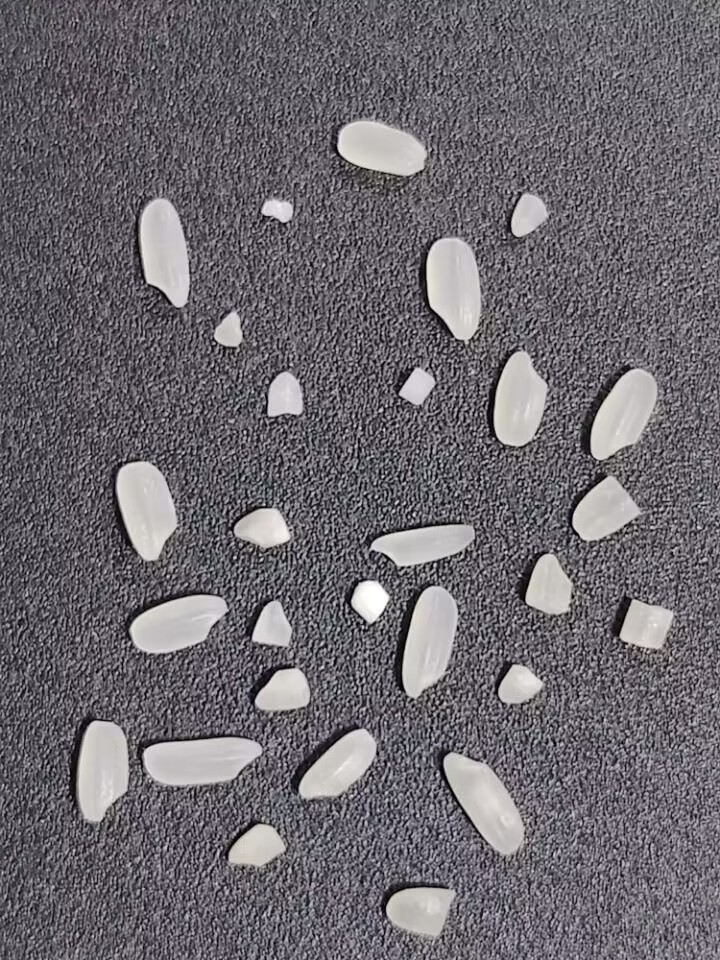broken: (571, 475, 641, 542), (224, 504, 300, 552), (385, 887, 456, 937), (524, 551, 574, 615), (617, 597, 674, 651), (225, 822, 286, 868), (247, 598, 299, 649), (254, 667, 310, 712), (347, 577, 391, 627), (497, 663, 545, 705), (265, 370, 303, 417), (510, 192, 548, 238), (398, 367, 436, 406), (212, 310, 245, 349), (260, 199, 295, 224)
rice: (442, 752, 524, 854), (112, 460, 181, 565), (135, 195, 194, 310), (401, 586, 458, 698), (424, 234, 483, 342), (589, 368, 658, 460), (366, 513, 479, 569), (129, 594, 229, 654), (143, 736, 262, 786), (296, 728, 377, 800), (336, 116, 431, 177), (491, 349, 549, 448), (77, 720, 130, 822)
